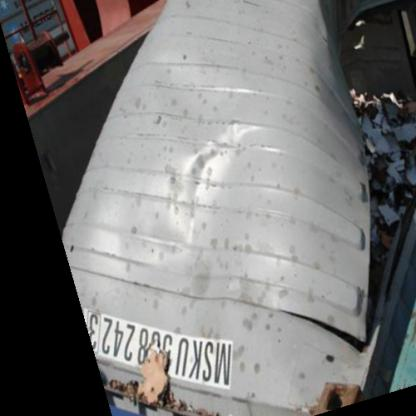Damage: (316, 46, 416, 334), (102, 318, 223, 404)
